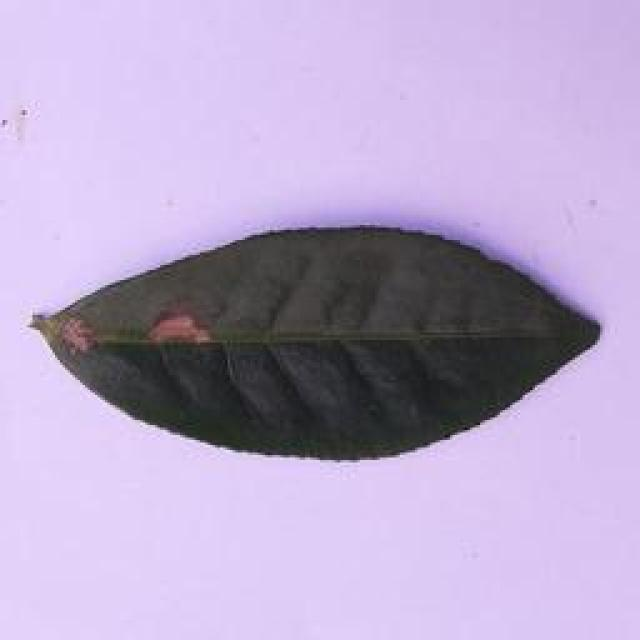Gray Blight: (25, 219, 600, 466)
